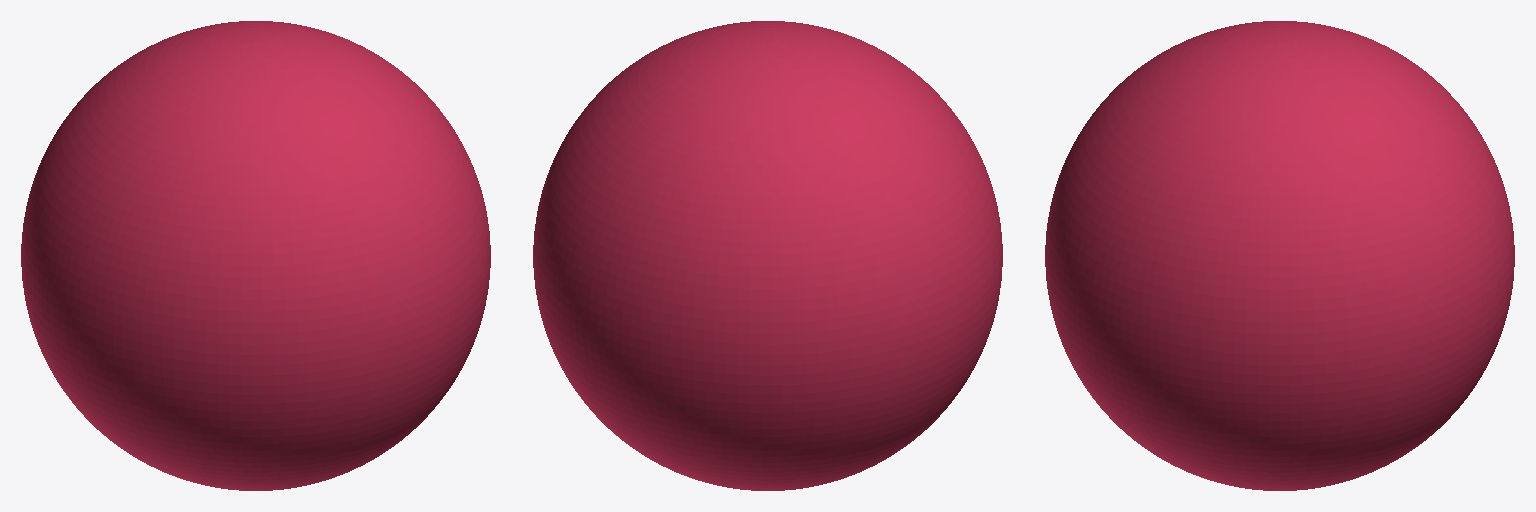
File: blenderMoon1object.obj
3 renders of one model, left to right at view 1: azimuth 30°, elevation 25°; view 2: azimuth 150°, elevation 25°; view 3: azimuth 270°, elevation 25°, orthographic.
Visible parts, largest first — view 1: Sphere; view 2: Sphere; view 3: Sphere.
Part boxes in pixels (bbox=[...]): Sphere: bbox=[21, 21, 490, 490]; Sphere: bbox=[533, 21, 1002, 490]; Sphere: bbox=[1045, 21, 1514, 490].
Size of the model in its own units: 1.99 by 2 by 1.99.